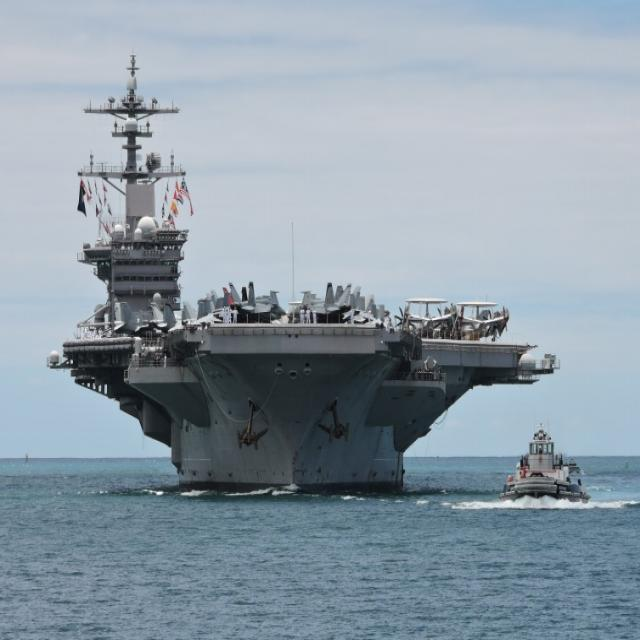Portanaves: (44, 47, 567, 498)
